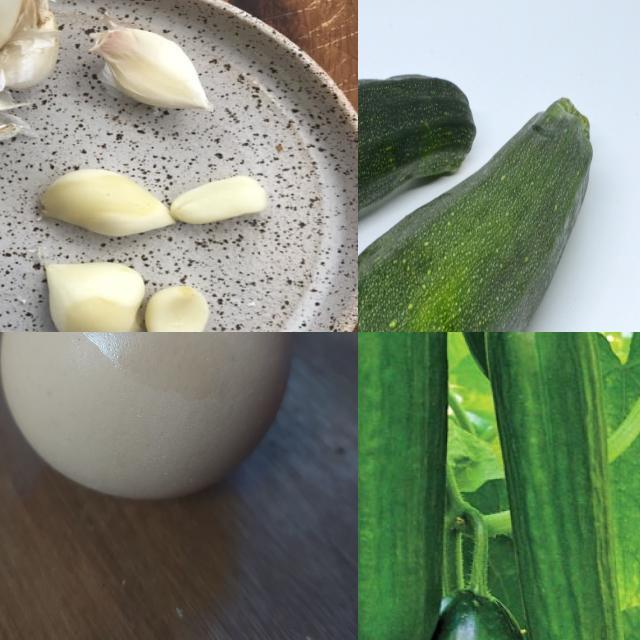cucumber: (481, 333, 633, 640), (359, 333, 448, 640), (412, 585, 531, 640)
egg: (1, 333, 301, 512)
garlic: (87, 25, 211, 116), (38, 170, 178, 238), (45, 260, 146, 333), (173, 168, 275, 231), (145, 284, 214, 333)
zucchini: (359, 52, 477, 248)
